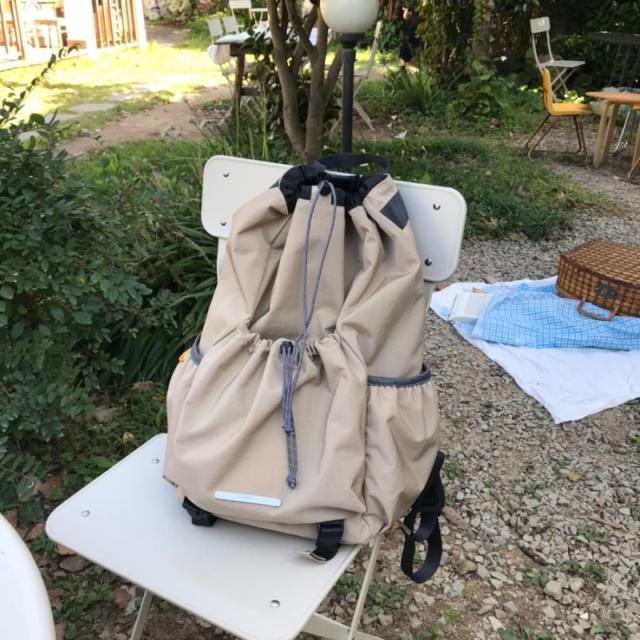backpack: (174, 141, 493, 589)
